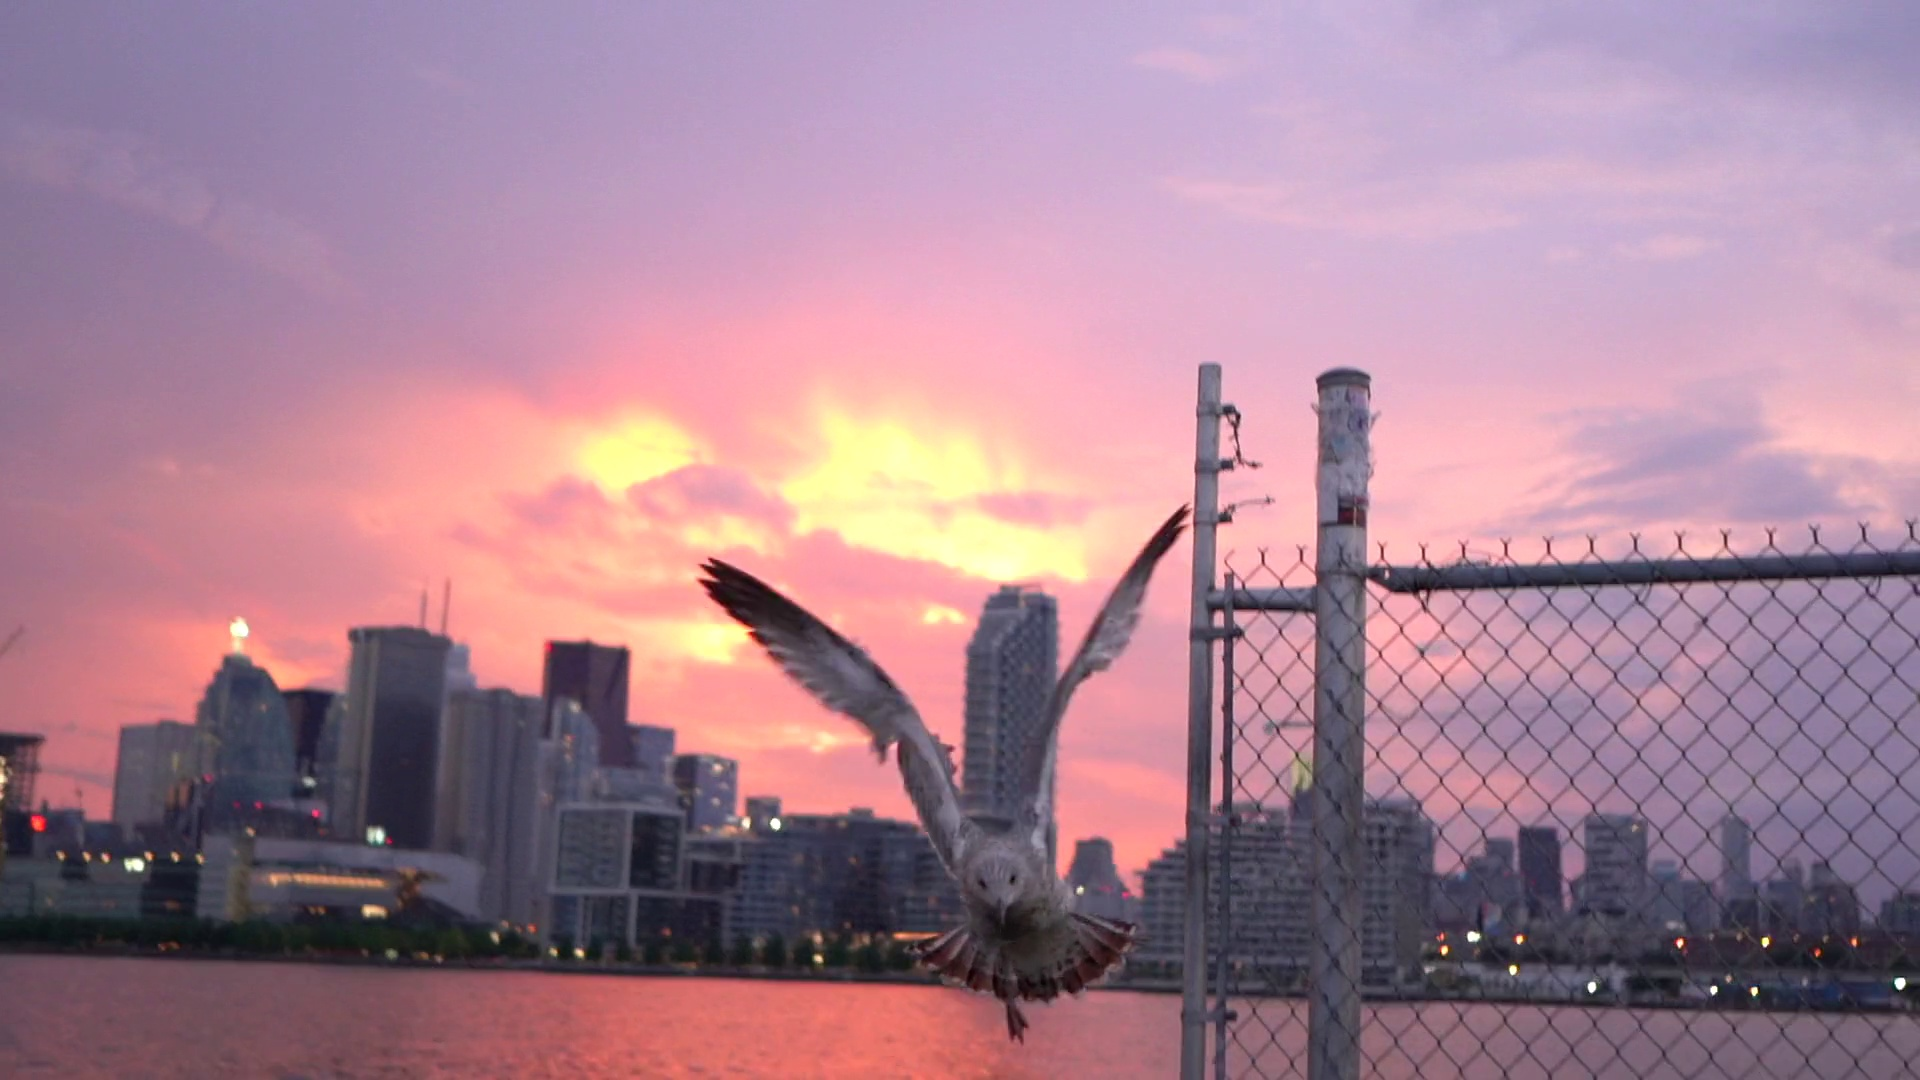bird: (698, 498, 1193, 1044)
